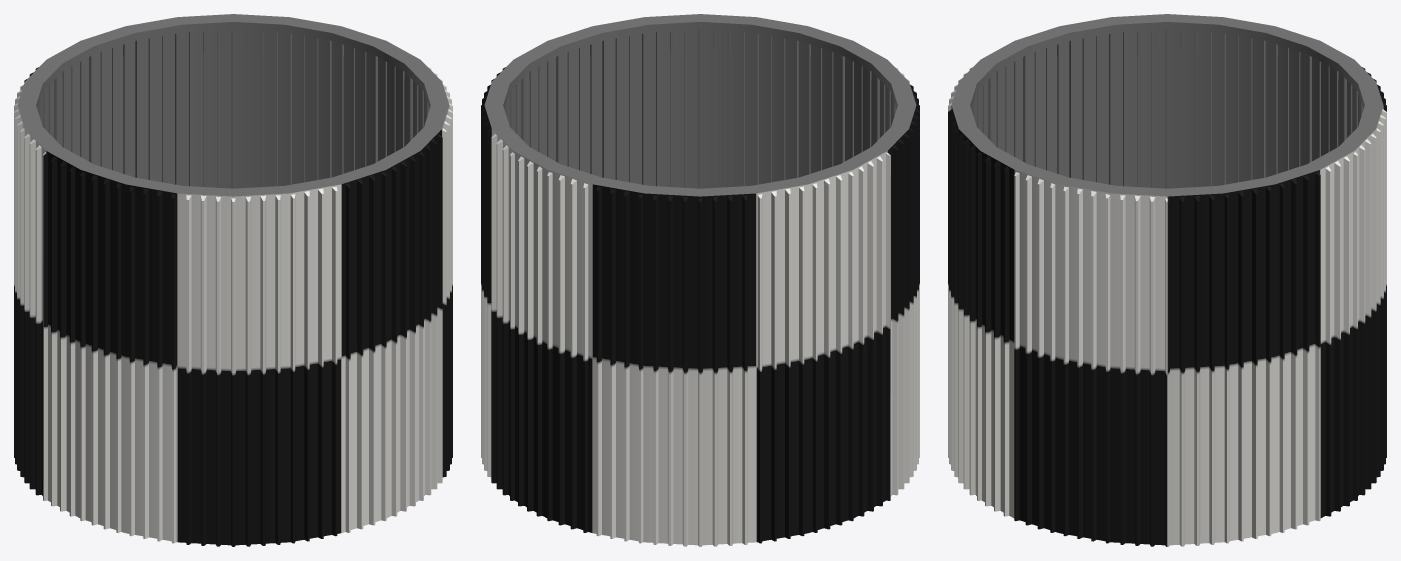
Rendered from ksprocket.fbx.
3 views of the same model, side by side, from view 1: azimuth 30°, elevation 25°; view 2: azimuth 150°, elevation 25°; view 3: azimuth 270°, elevation 25° (orthographic).
Visible parts, largest first — view 1: wall.004; view 2: wall.004; view 3: wall.004.
Boxes of the visible parts, <box> form: wall.004: <box>14,14,452,546</box>; wall.004: <box>481,14,919,546</box>; wall.004: <box>948,14,1386,546</box>.
Bounding box in the file's own units: 1027 × 900 × 1026.
